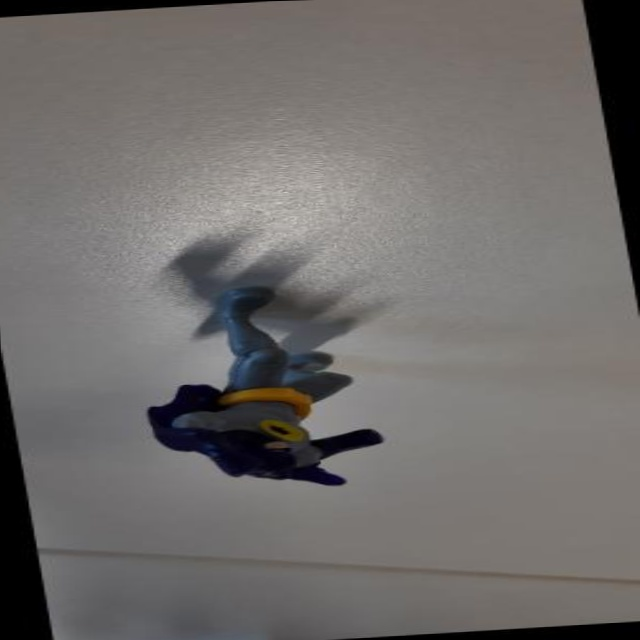Batman: (92, 244, 436, 511)
